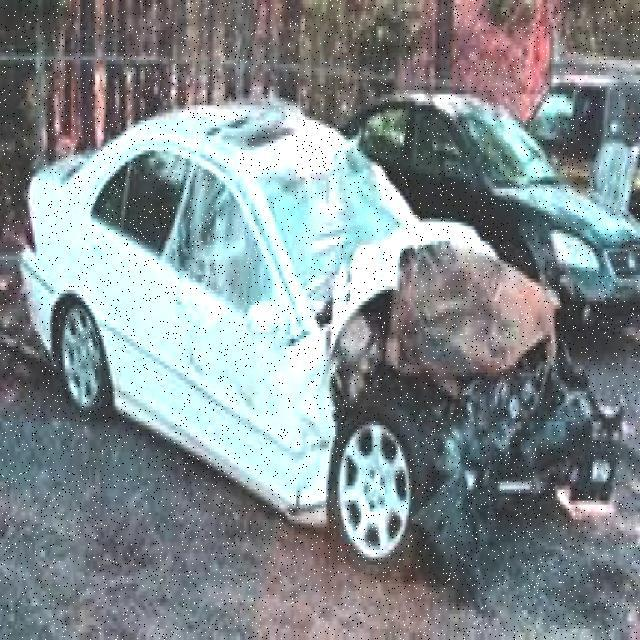car damage: (168, 131, 624, 595)
